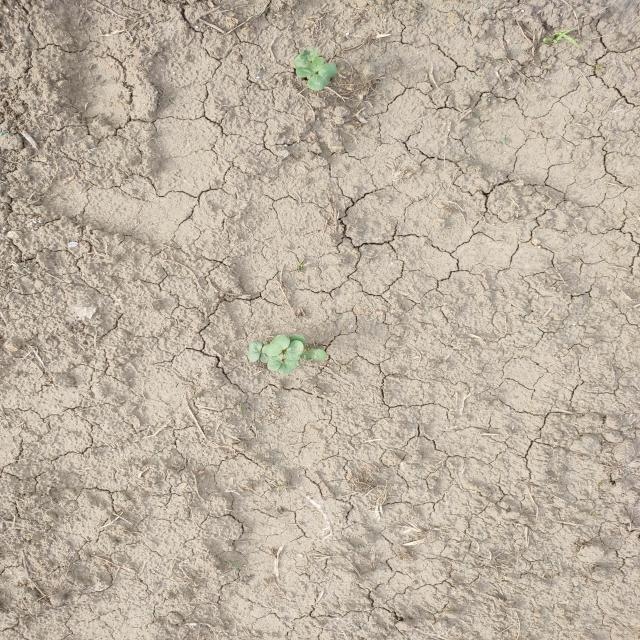seedling_s2: (308, 62, 337, 90), (295, 56, 325, 77), (265, 335, 290, 356), (294, 47, 318, 68), (284, 340, 304, 360), (279, 357, 298, 375), (300, 349, 327, 361), (248, 341, 262, 362), (267, 353, 283, 371), (290, 334, 306, 348), (260, 344, 270, 363)
